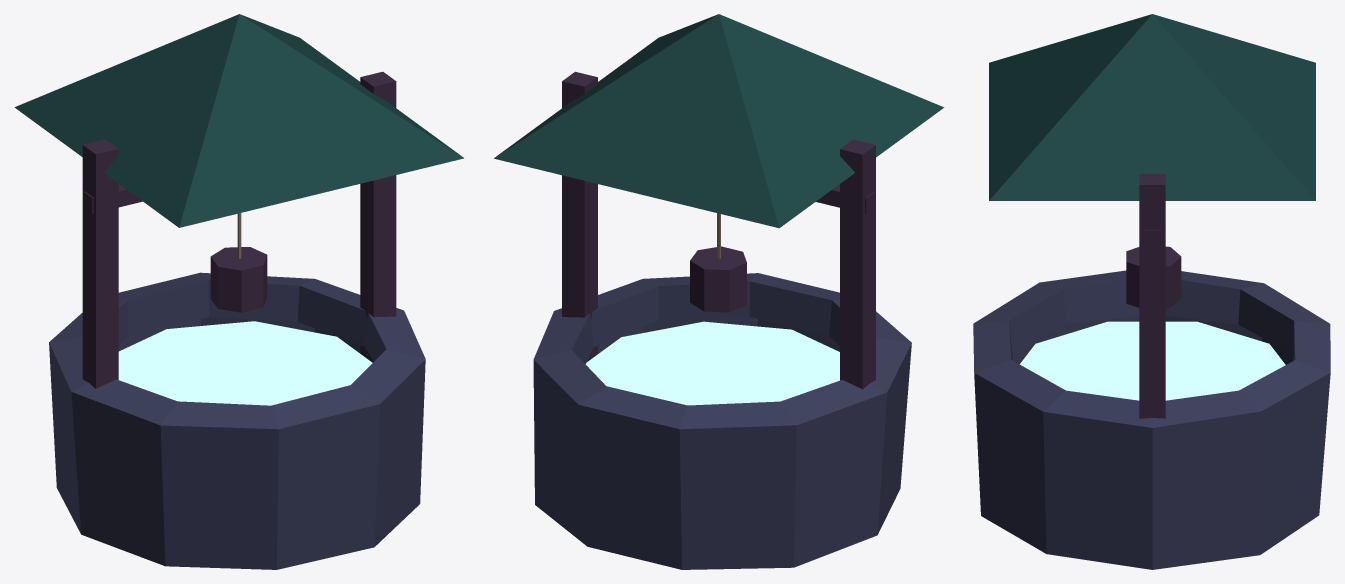
File: puits_modele.glb
3 views of the same model, side by side, from view 1: azimuth 30°, elevation 25°; view 2: azimuth 150°, elevation 25°; view 3: azimuth 270°, elevation 25° (orthographic).
Parts seen in each view (by area): view 1: L1.004, P7.009, P3.003, P4.010, P5.002, P9.009; view 2: L1.004, P7.009, P3.003, P4.010, P5.002, P9.009; view 3: L1.004, P7.009, P3.003, P5.002, P9.009.
Part boxes in pixels (bbox=[...]): L1.004: bbox=[49, 272, 425, 569]; P7.009: bbox=[14, 14, 463, 227]; P3.003: bbox=[118, 321, 372, 405]; P4.010: bbox=[82, 139, 118, 388]; P5.002: bbox=[360, 71, 396, 362]; P9.009: bbox=[210, 247, 267, 312]; L1.004: bbox=[533, 273, 911, 569]; P7.009: bbox=[494, 14, 944, 228]; P3.003: bbox=[585, 321, 839, 405]; P4.010: bbox=[840, 139, 875, 389]; P5.002: bbox=[562, 71, 597, 361]; P9.009: bbox=[690, 246, 746, 312]; L1.004: bbox=[973, 270, 1330, 569]; P7.009: bbox=[989, 14, 1315, 200]; P3.003: bbox=[1020, 321, 1285, 400]; P5.002: bbox=[1139, 174, 1165, 418]; P9.009: bbox=[1126, 246, 1181, 308].
Size of the model in its own units: 1.32 by 1.83 by 1.24.
